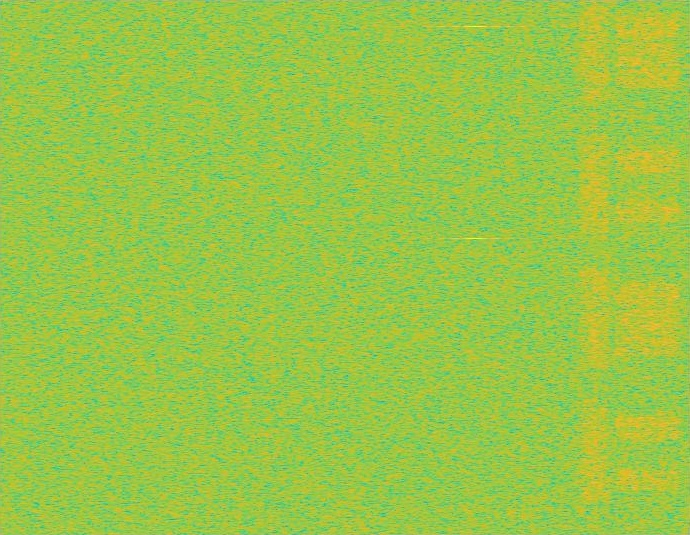5G: (578, 0, 612, 534)
DSSS: (592, 0, 597, 534)
LTE: (613, 0, 682, 534)
Radar: (468, 0, 482, 534)
